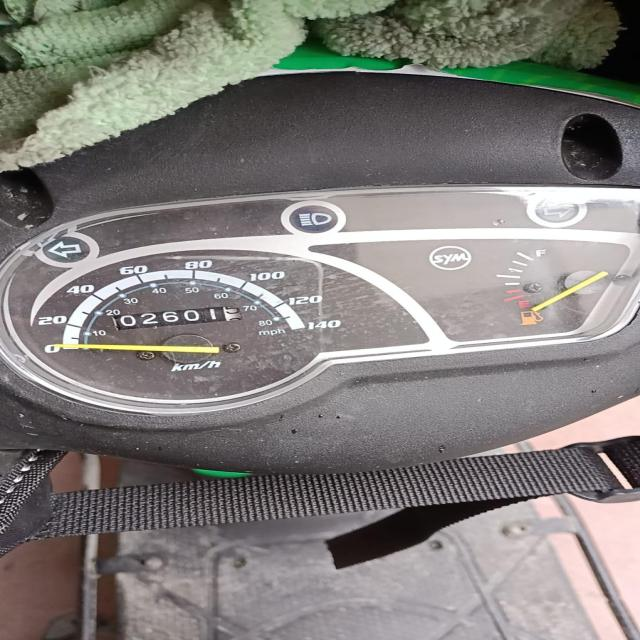odometer: (111, 304, 244, 332)
